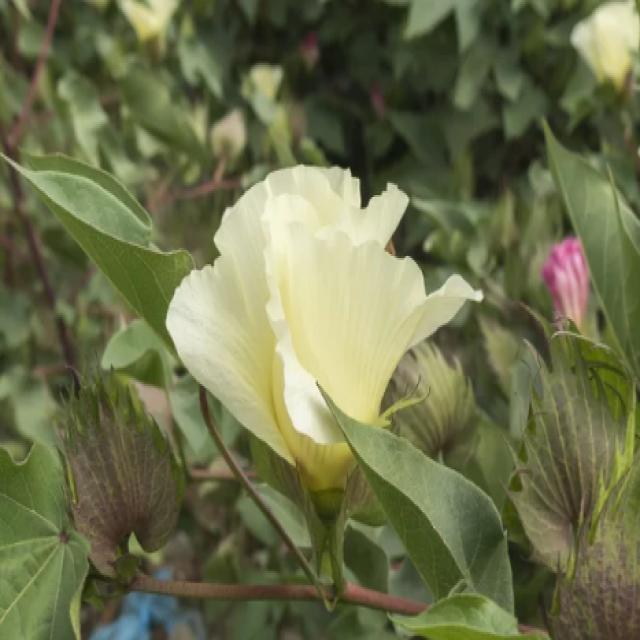Cotton Blossom: (164, 158, 425, 535), (542, 232, 592, 330)
Cotton Bud: (516, 290, 635, 580), (52, 341, 182, 597), (544, 461, 640, 640), (382, 337, 480, 469)
